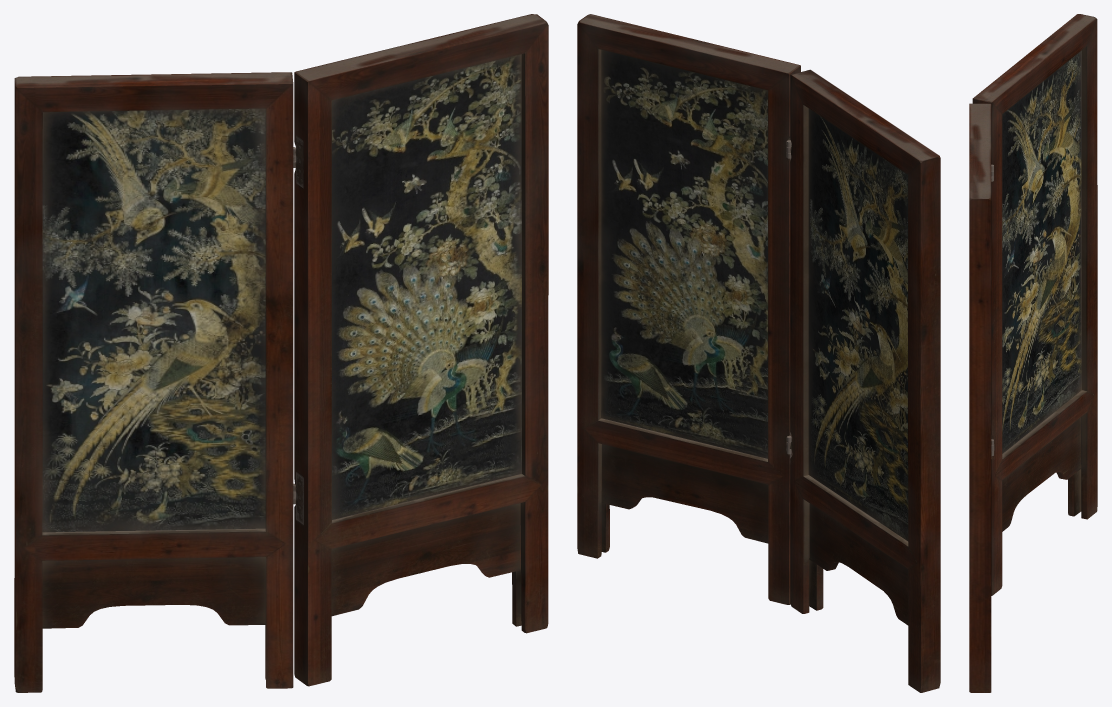
The model's file is chinese_screen_panels.glb.
The picture shows the model from 3 angles, left to right: view 1: azimuth 30°, elevation 25°; view 2: azimuth 150°, elevation 25°; view 3: azimuth 270°, elevation 25°; orthographic projection. The views are drawn at different scales.
Visible parts, largest first — view 1: chinese_screen_panels_a; view 2: chinese_screen_panels_a; view 3: chinese_screen_panels_a.
Part boxes in pixels (x1,y1,x2,y2): chinese_screen_panels_a: [14, 14, 548, 692]; chinese_screen_panels_a: [577, 14, 940, 692]; chinese_screen_panels_a: [969, 14, 1097, 692].
Size of the model in its own units: 1.29 by 1.6 by 0.3769.
1 material, 1 textured.
